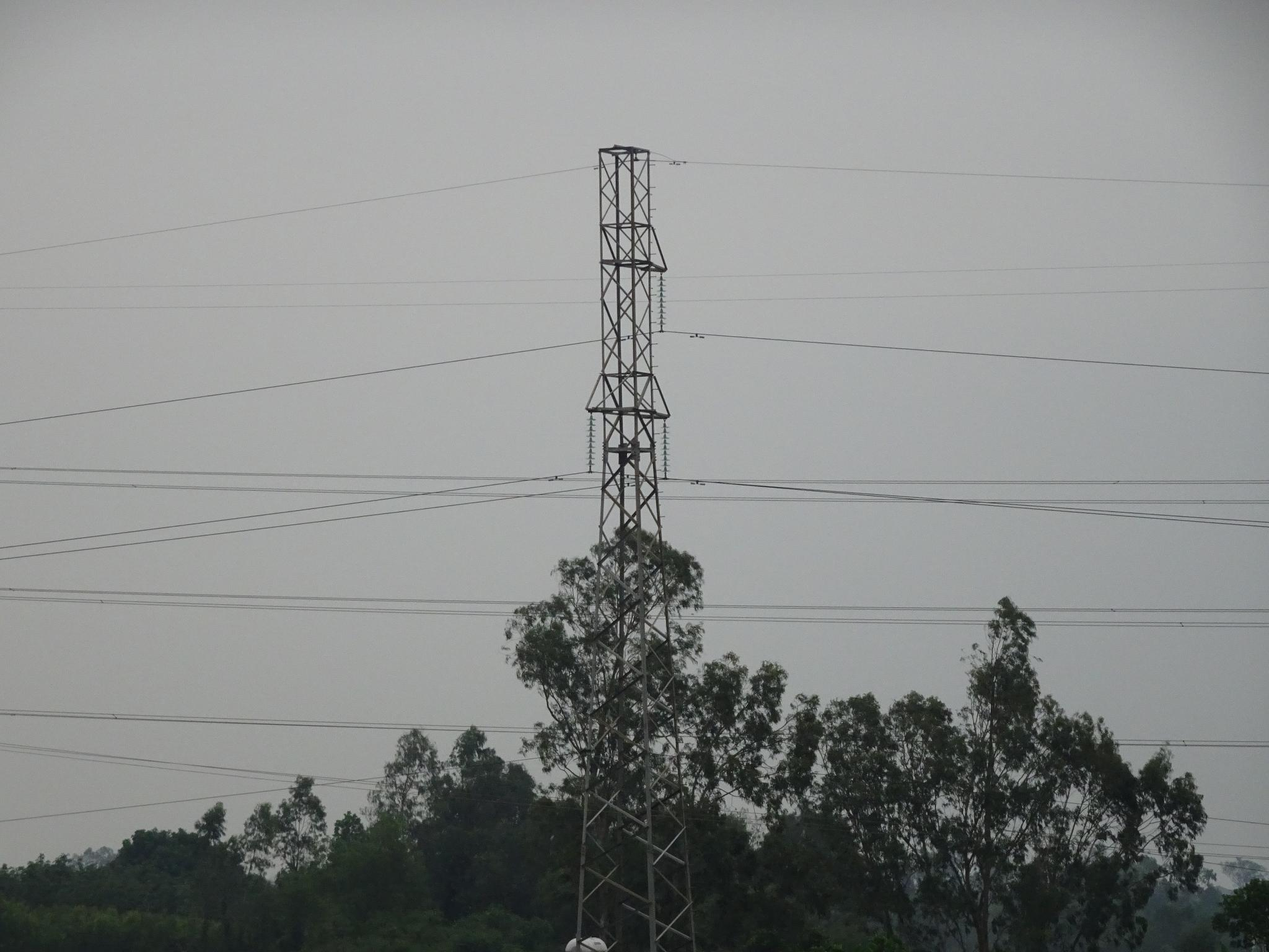tower: (560, 133, 707, 952)
